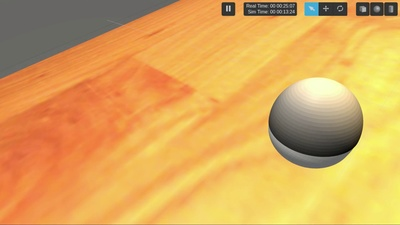mira_robot: (269, 77, 364, 169)
